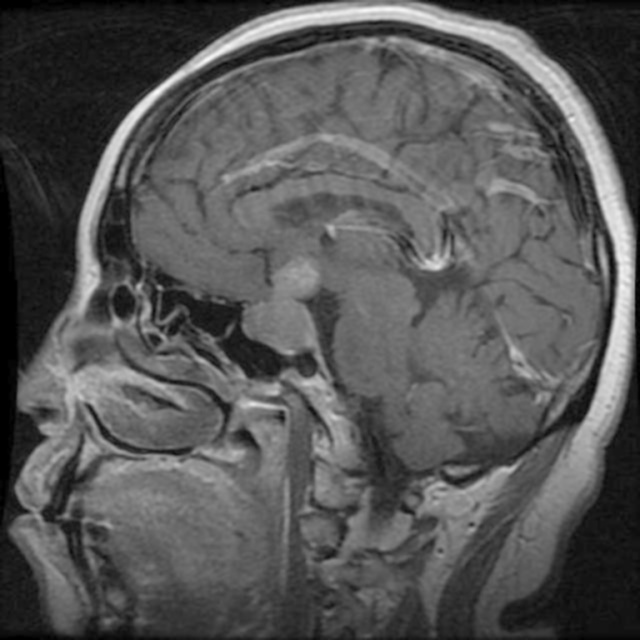no tumor: (245, 262, 327, 362)
